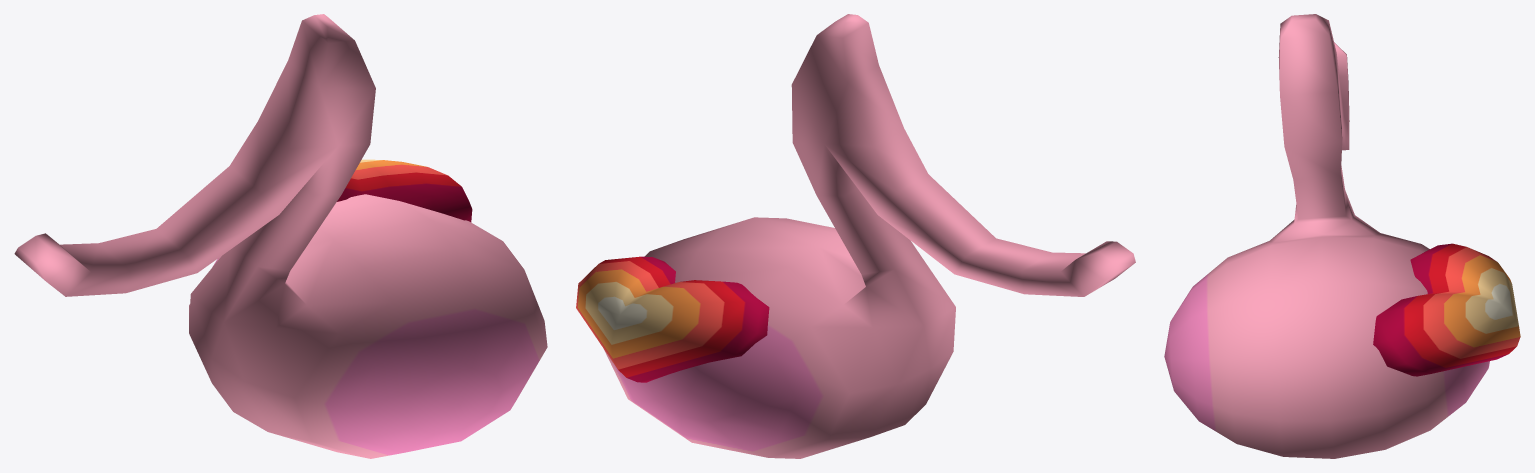
File: mcard.ico.obj
3 views of the same model, side by side, from view 1: azimuth 30°, elevation 25°; view 2: azimuth 150°, elevation 25°; view 3: azimuth 270°, elevation 25° (orthographic). The views are drawn at different scales.
Size of the model in its own units: 2.58 by 2.11 by 1.73.
Materials: 1 (1 with a texture image).
